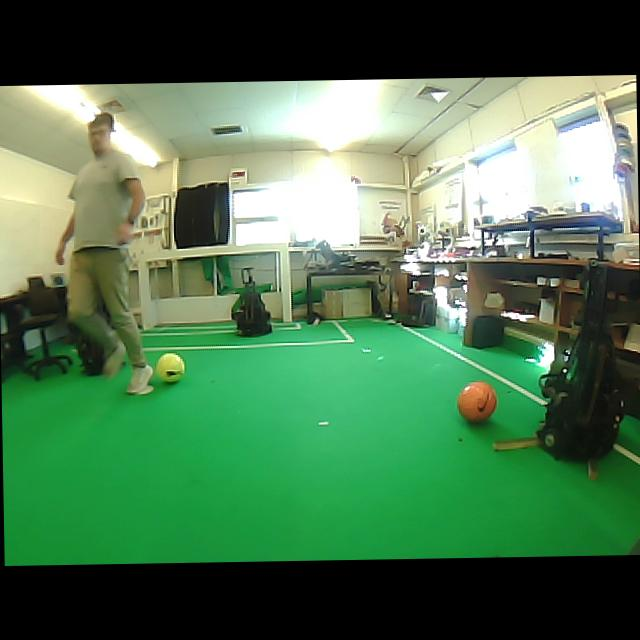ball: (457, 380, 496, 421), (156, 353, 184, 382)
goal: (279, 243, 291, 322), (138, 258, 151, 328)
robot: (537, 261, 623, 460), (233, 267, 270, 335)
